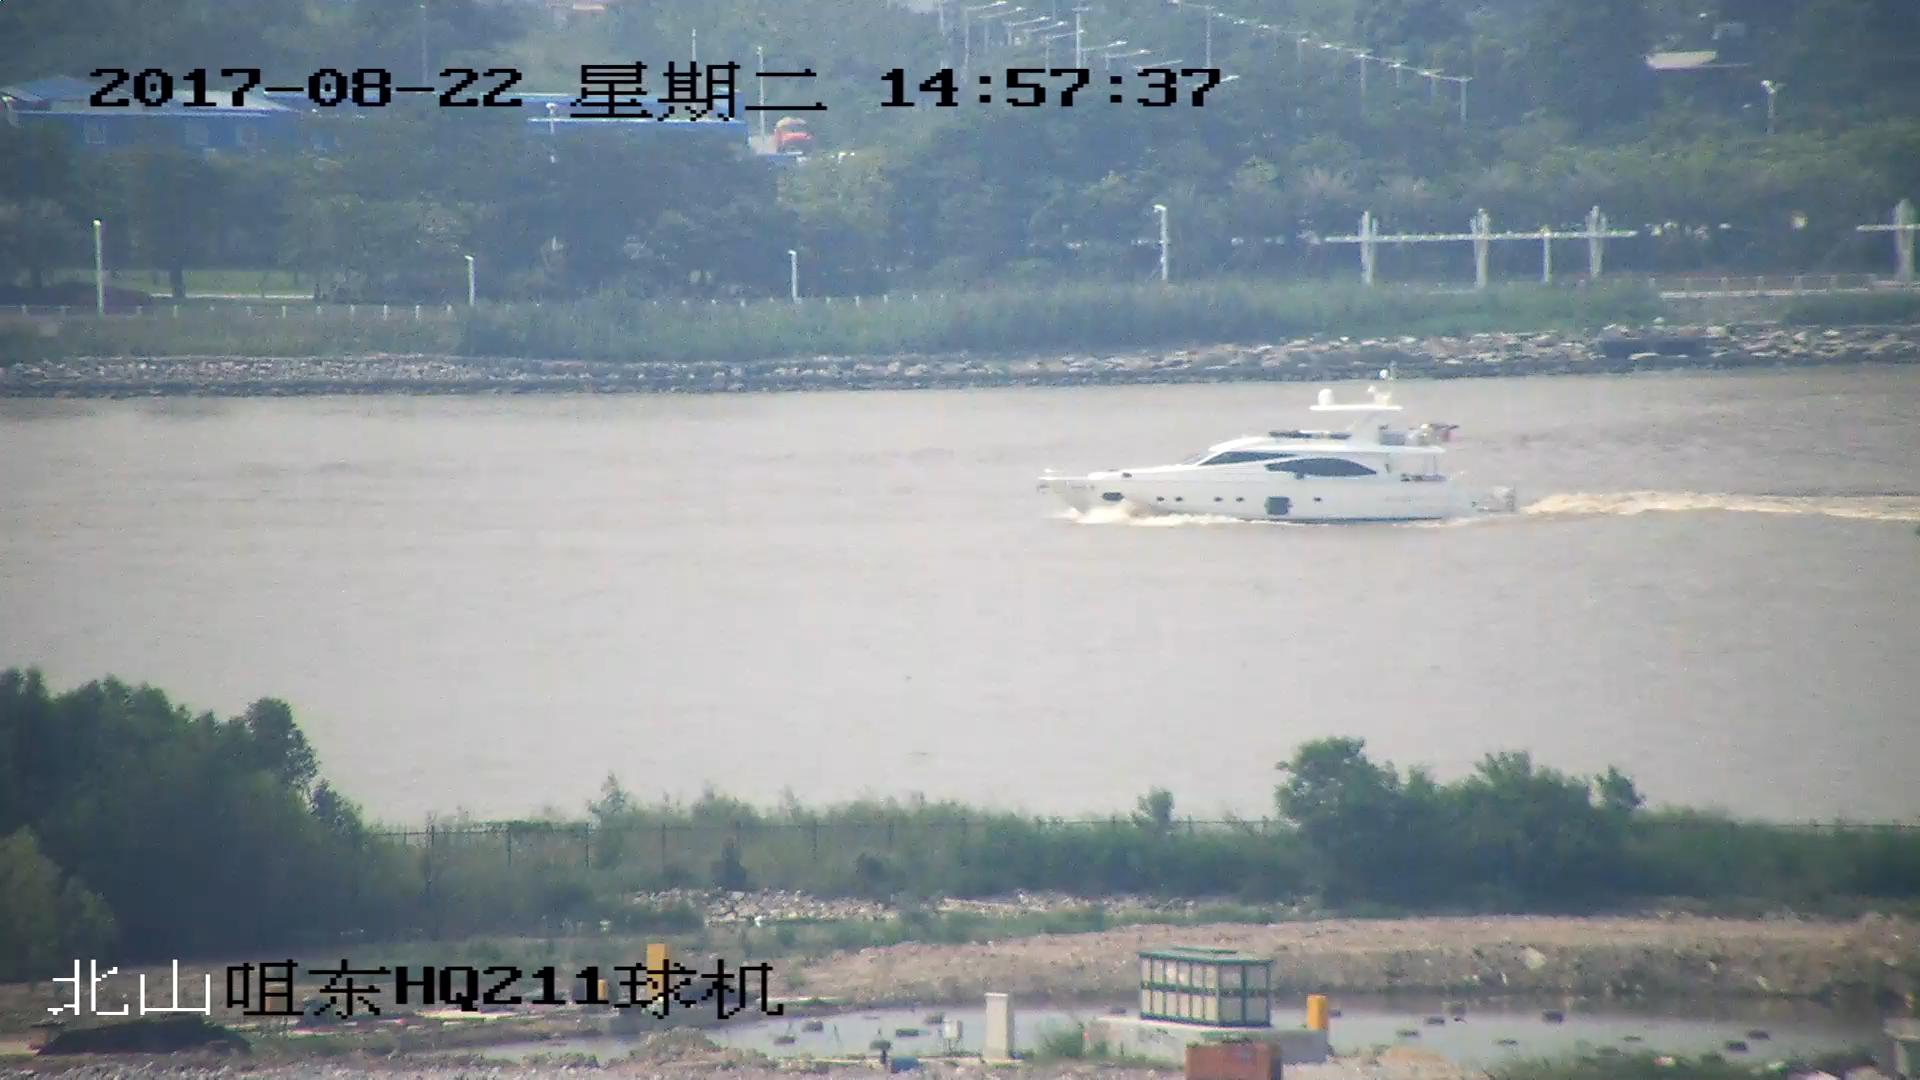passenger ship: (1038, 371, 1506, 523)
